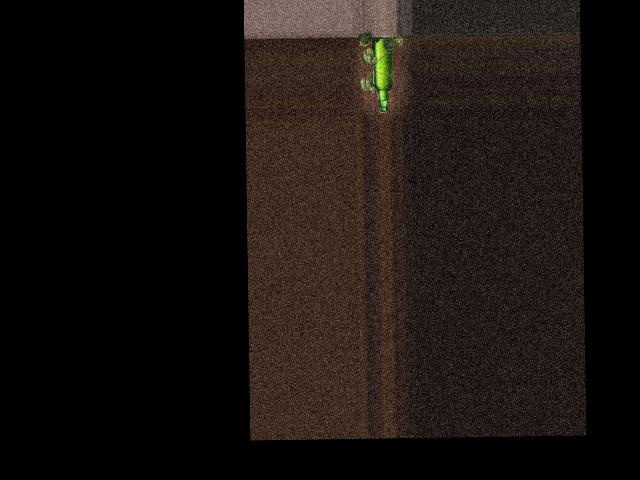beer: (373, 35, 394, 113)
